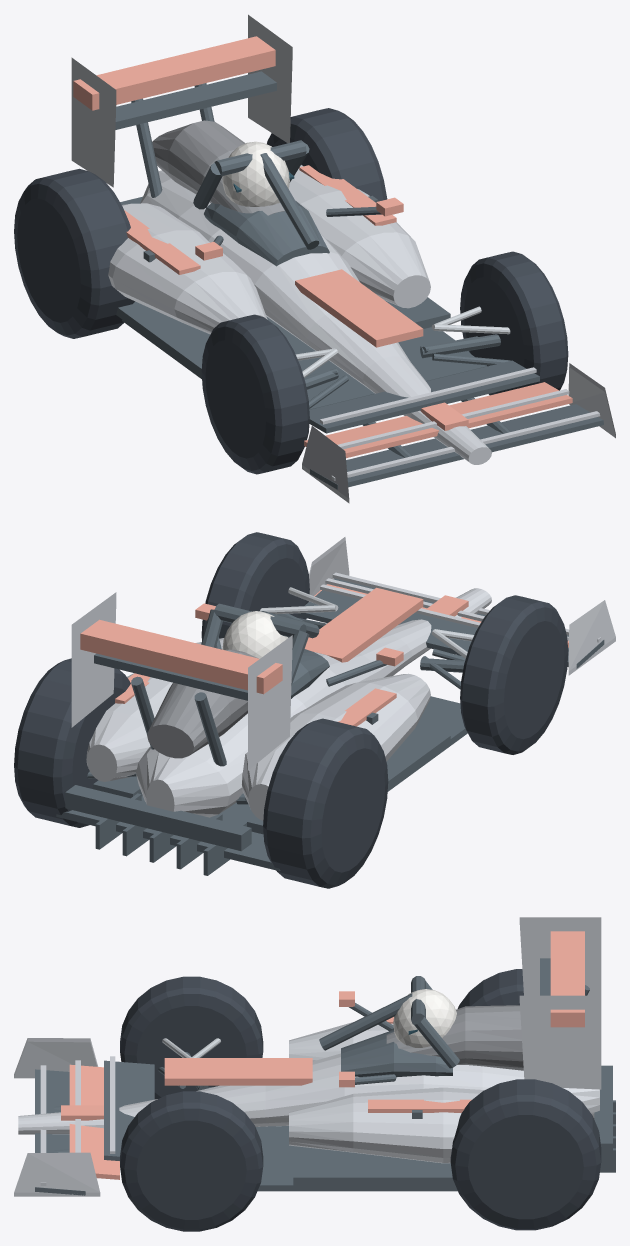
The model's file is kia_high.glb.
3 views of the same model, one above another, from view 1: azimuth 30°, elevation 25°; view 2: azimuth 150°, elevation 25°; view 3: azimuth 270°, elevation 25° (orthographic). The views are drawn at different scales.
Visible parts, largest first — view 1: BODY_paint, BODY_carbon, BODY_accent, RearLeftWheel_rubber, FrontLeftWheel_rubber, FrontRightWheel_rubber, RearRightWheel_rubber, BODY_paint_dark, BODY_helmet, BODY_metal; view 2: BODY_paint, BODY_carbon, RearLeftWheel_rubber, FrontLeftWheel_rubber, BODY_accent, RearRightWheel_rubber, FrontRightWheel_rubber, BODY_paint_dark, BODY_helmet, BODY_metal; view 3: BODY_paint, BODY_carbon, RearRightWheel_rubber, FrontRightWheel_rubber, BODY_accent, FrontLeftWheel_rubber, BODY_paint_dark, BODY_helmet, RearLeftWheel_rubber.
Part boxes in pixels (x1=…): BODY_paint: x1=71, y1=14, x2=615, y2=503; BODY_carbon: x1=115, y1=71, x2=603, y2=489; BODY_accent: x1=73, y1=36, x2=572, y2=458; RearLeftWheel_rubber: x1=14, y1=168, x2=134, y2=338; FrontLeftWheel_rubber: x1=201, y1=314, x2=309, y2=474; FrontRightWheel_rubber: x1=460, y1=251, x2=568, y2=395; RearRightWheel_rubber: x1=267, y1=108, x2=387, y2=201; BODY_paint_dark: x1=152, y1=120, x2=284, y2=215; BODY_helmet: x1=222, y1=141, x2=289, y2=206; BODY_metal: x1=295, y1=306, x2=510, y2=377; BODY_paint: x1=71, y1=537, x2=615, y2=820; BODY_carbon: x1=56, y1=578, x2=604, y2=875; RearLeftWheel_rubber: x1=263, y1=718, x2=388, y2=888; FrontLeftWheel_rubber: x1=460, y1=595, x2=568, y2=754; BODY_accent: x1=80, y1=584, x2=568, y2=726; RearRightWheel_rubber: x1=14, y1=658, x2=130, y2=827; FrontRightWheel_rubber: x1=201, y1=532, x2=309, y2=640; BODY_paint_dark: x1=147, y1=649, x2=258, y2=758; BODY_helmet: x1=222, y1=611, x2=288, y2=658; BODY_metal: x1=260, y1=587, x2=474, y2=658; BODY_paint: x1=14, y1=917, x2=601, y2=1196; BODY_carbon: x1=35, y1=958, x2=615, y2=1195; RearRightWheel_rubber: x1=450, y1=1079, x2=601, y2=1230; FrontRightWheel_rubber: x1=120, y1=1091, x2=263, y2=1231; BODY_accent: x1=61, y1=931, x2=584, y2=1179; FrontLeftWheel_rubber: x1=120, y1=976, x2=263, y2=1099; BODY_paint_dark: x1=386, y1=1005, x2=523, y2=1070; BODY_helmet: x1=393, y1=989, x2=456, y2=1047; RearLeftWheel_rubber: x1=457, y1=969, x2=523, y2=1008.
Size of the model in its own units: 2.59 by 1.9 by 4.88.
